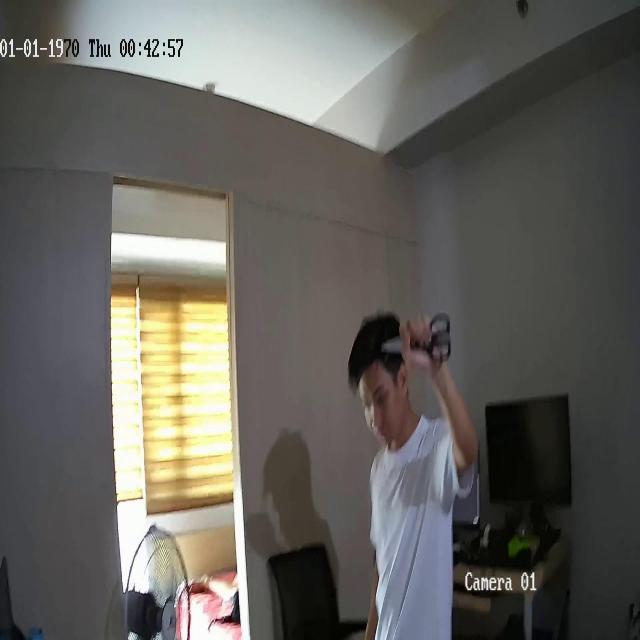scissor: (382, 312, 452, 364)
